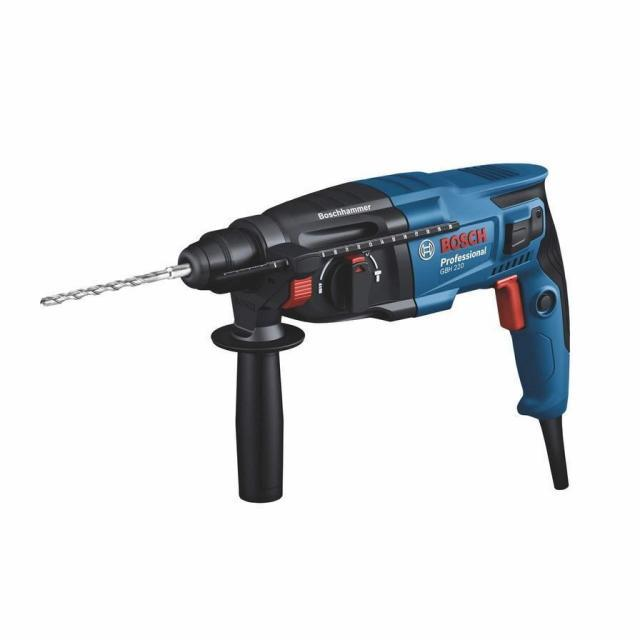drill: (40, 162, 571, 504)
